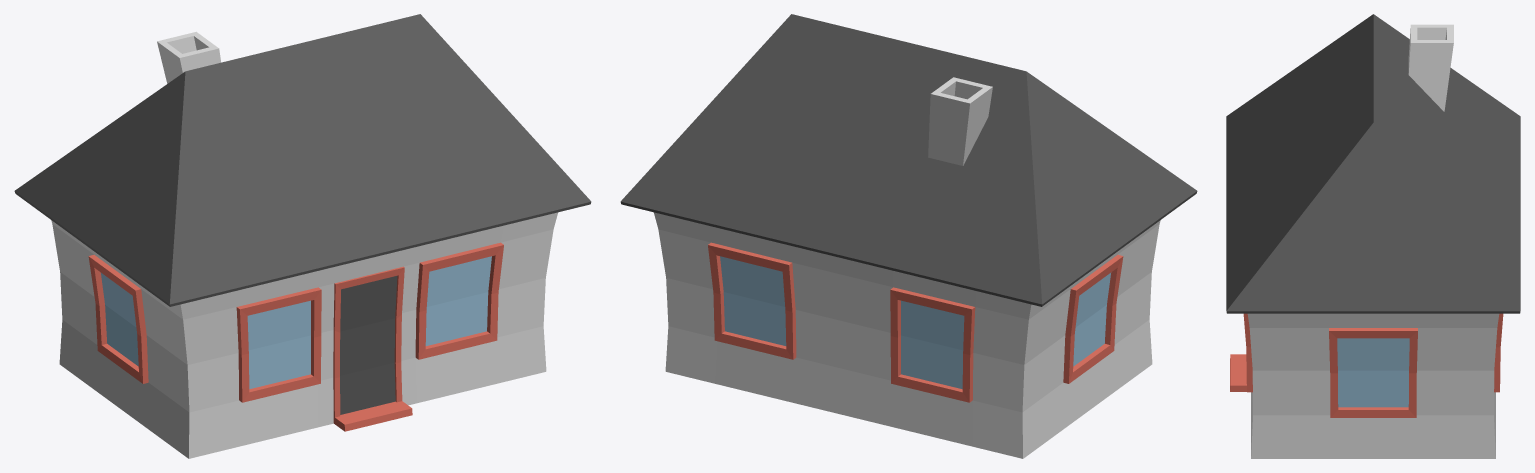
Rendered from domik2.fbx.
3 renders of one model, left to right at view 1: azimuth 30°, elevation 25°; view 2: azimuth 150°, elevation 25°; view 3: azimuth 270°, elevation 25°, orthographic. The views are drawn at different scales.
Visible parts, largest first — view 1: Cube; view 2: Cube; view 3: Cube.
Part boxes in pixels (<box>): Cube: <box>14,14,591,458</box>; Cube: <box>620,14,1197,458</box>; Cube: <box>1226,14,1520,458</box>.
Size of the model in its own units: 350 by 258 by 223.
